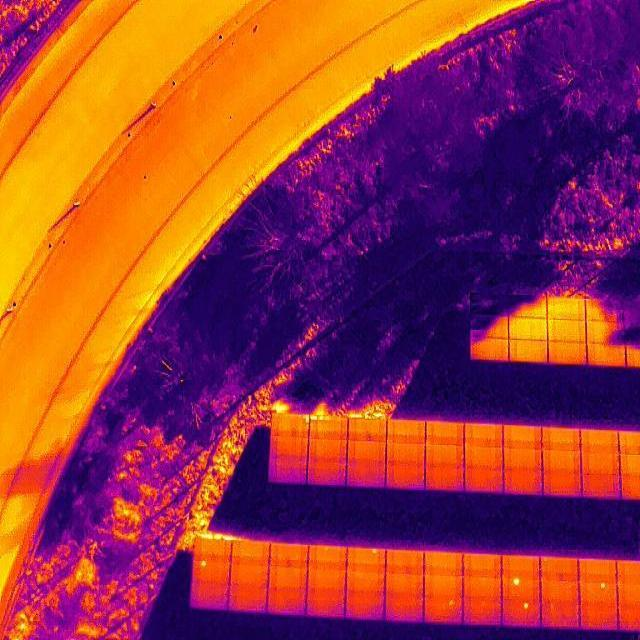Cell: (578, 580, 618, 609), (503, 600, 541, 628), (191, 562, 232, 586), (424, 598, 464, 622), (502, 578, 541, 602), (347, 548, 386, 570)
Cell-Multi: (309, 416, 347, 442), (271, 414, 310, 435)
No-Anomaly: (463, 598, 502, 626), (307, 462, 348, 488), (384, 572, 425, 598), (542, 452, 582, 478), (463, 552, 503, 578), (307, 566, 347, 592), (346, 595, 386, 621), (548, 342, 589, 367), (582, 453, 623, 478), (583, 475, 624, 500), (230, 566, 269, 592), (541, 578, 580, 604), (425, 443, 465, 468), (268, 589, 306, 615), (508, 338, 549, 362), (580, 430, 621, 454), (424, 551, 464, 575), (501, 555, 541, 579), (541, 558, 581, 582), (228, 591, 268, 615), (191, 585, 229, 610), (548, 320, 587, 344), (465, 424, 504, 448), (503, 426, 542, 450), (269, 435, 308, 459), (386, 444, 425, 468), (269, 460, 308, 484), (231, 542, 270, 566), (307, 591, 346, 615), (580, 606, 619, 630), (463, 576, 503, 599), (424, 576, 464, 599), (542, 428, 580, 452), (309, 440, 347, 464), (347, 570, 385, 594), (424, 469, 465, 491), (578, 559, 619, 581), (385, 599, 426, 621), (387, 421, 426, 444), (385, 551, 424, 574), (542, 604, 579, 628), (546, 299, 588, 320), (347, 419, 387, 441), (268, 544, 308, 566), (425, 424, 466, 445), (348, 443, 387, 465), (269, 568, 308, 590), (307, 545, 347, 566), (503, 450, 541, 472), (347, 465, 386, 486), (386, 469, 425, 490), (465, 470, 504, 491), (194, 540, 231, 562), (508, 319, 548, 339), (465, 449, 503, 470), (503, 473, 543, 492), (543, 478, 583, 497)
Shadowing: (508, 295, 548, 319), (588, 342, 628, 366), (470, 316, 509, 340), (586, 300, 627, 322), (469, 295, 508, 317), (587, 320, 626, 342), (470, 338, 509, 360)
